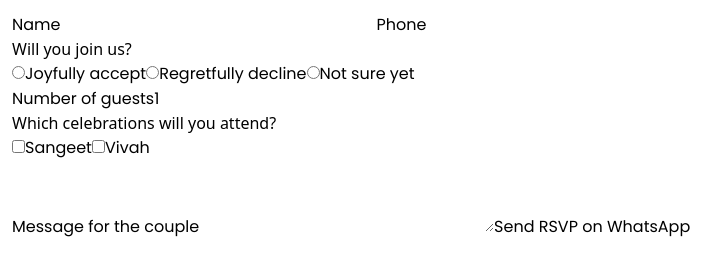
Test: <RsvpForm> › hides guest count and events when declining
Click the radio button labelled "Regretfully decline" at (153, 72), box x1=146 y1=66 x2=159 y2=79
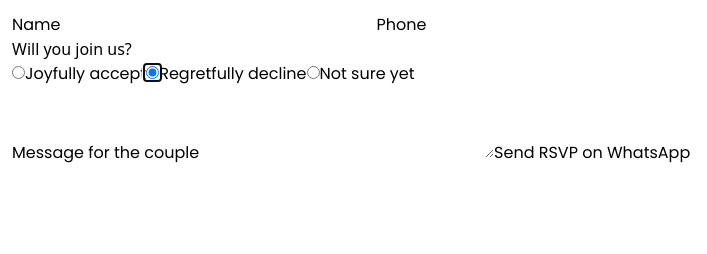
Now the text labelled "Number of guests" is gone
Now the text labelled "Sangeet" is gone
